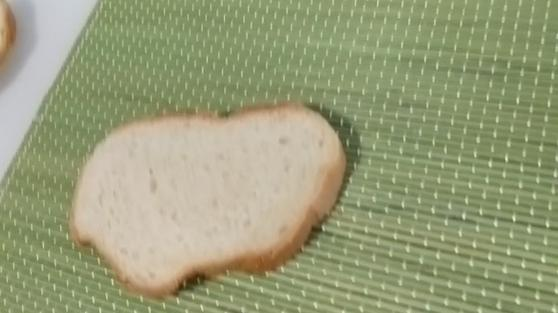white_bread: (75, 103, 352, 297)
